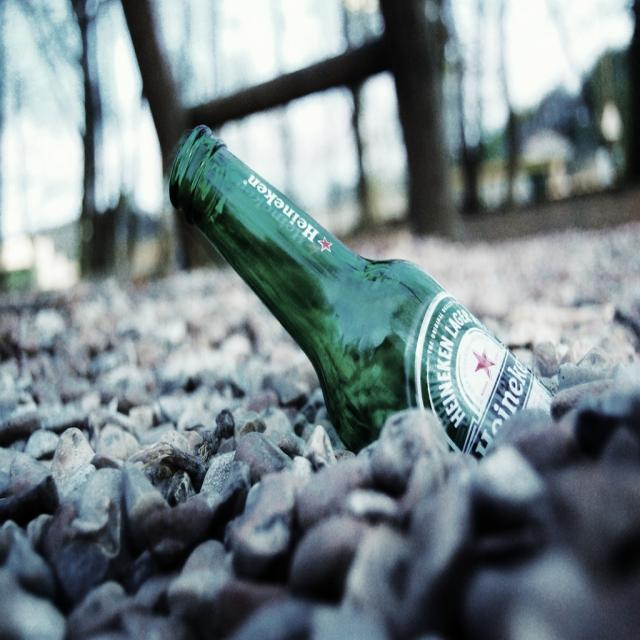heineken: (415, 288, 556, 462)
